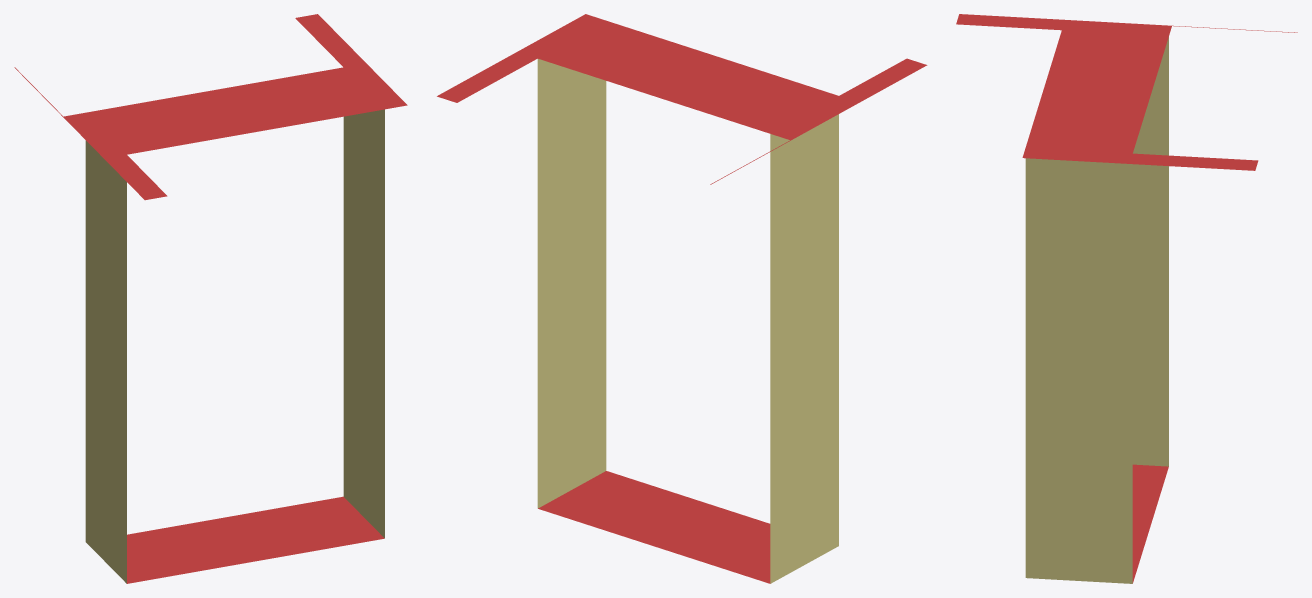
3 views of the same model, side by side, from view 1: azimuth 30°, elevation 25°; view 2: azimuth 150°, elevation 25°; view 3: azimuth 270°, elevation 25° (orthographic). The views are drawn at different scales.
Bounding box in the file's own units: 7.47 × 6.88 × 9.55.
